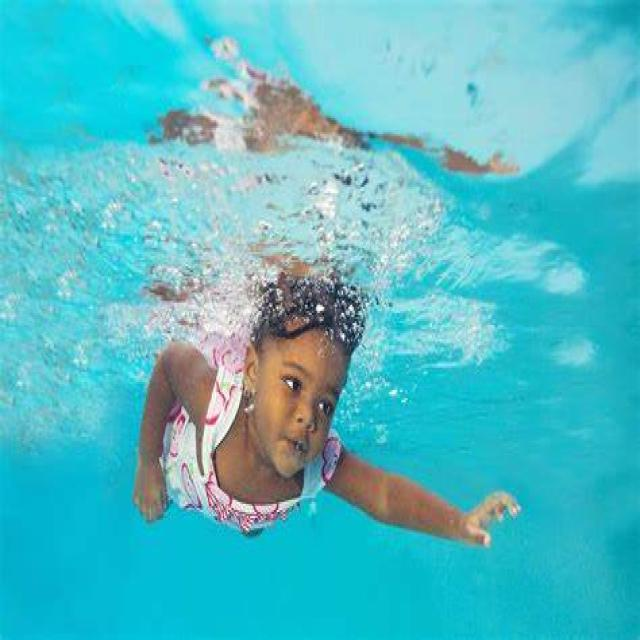swimming: (117, 235, 471, 554)
